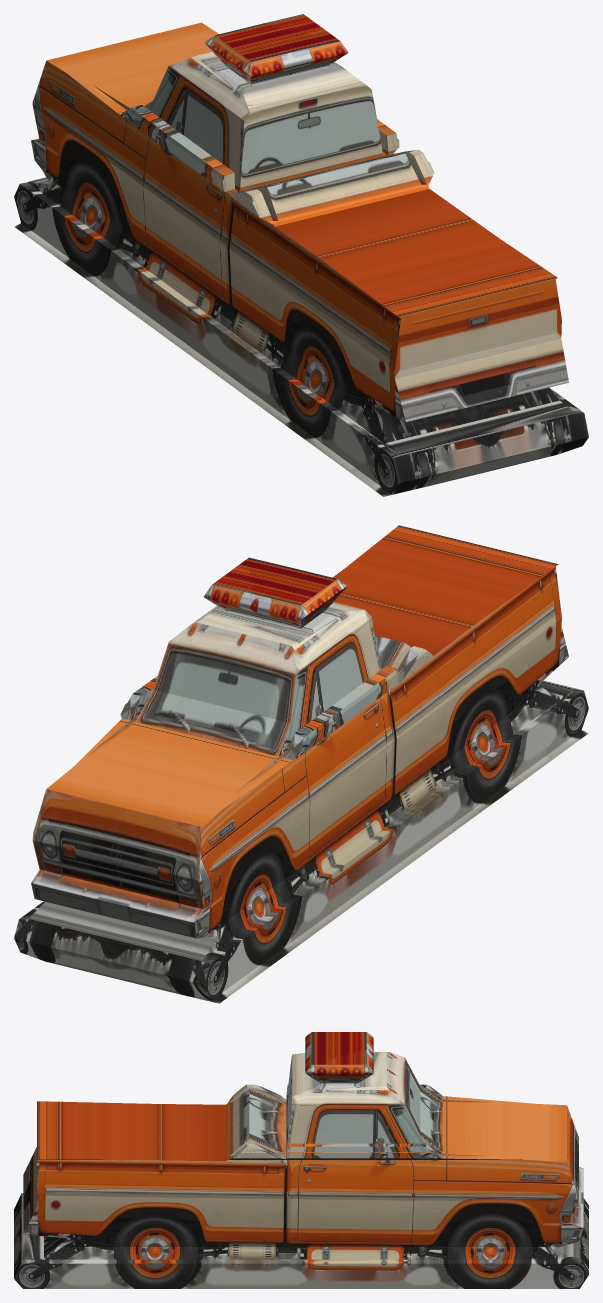
File: hi_rail_truck.glb
3 renders of one model, top to bottom at view 1: azimuth 30°, elevation 25°; view 2: azimuth 150°, elevation 25°; view 3: azimuth 270°, elevation 25°, orthographic. The views are drawn at different scales.
Visible parts, largest first — view 1: hi_rail_truck; view 2: hi_rail_truck; view 3: hi_rail_truck.
Boxes of the visible parts, x1=… form: hi_rail_truck: x1=14, y1=14, x2=588, y2=496; hi_rail_truck: x1=14, y1=525, x2=588, y2=1003; hi_rail_truck: x1=14, y1=1032, x2=588, y2=1288.
Size of the model in its own units: 1.93 by 2.62 by 6.49.
Materials: 2 (1 with a texture image).
